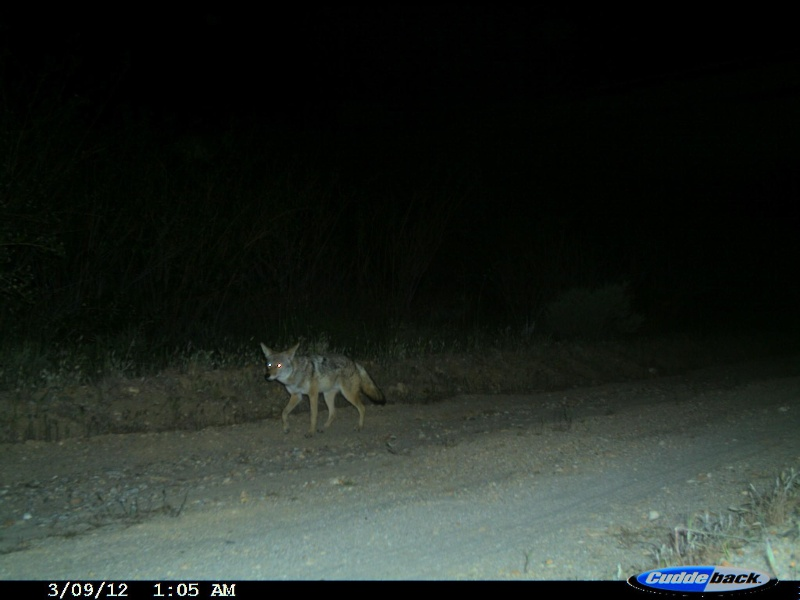coyote: (257, 340, 387, 437)
